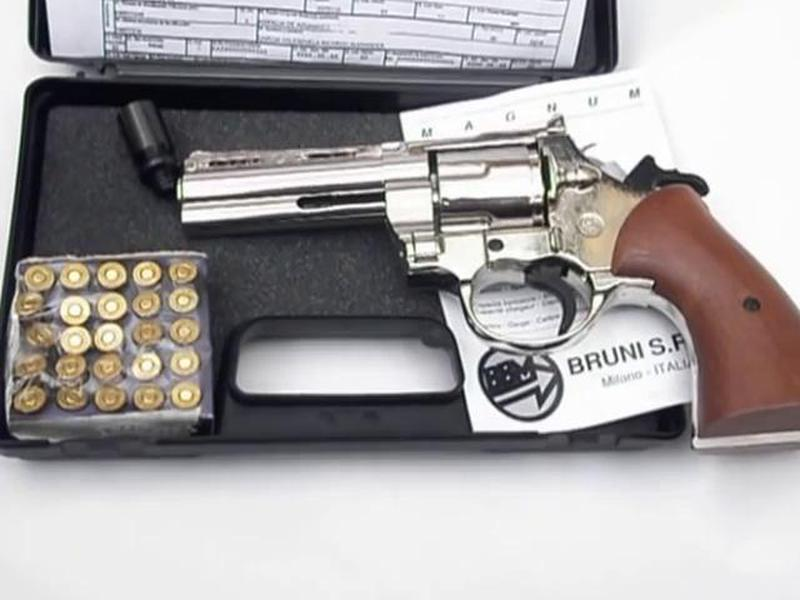Revolver: (186, 85, 693, 354)
